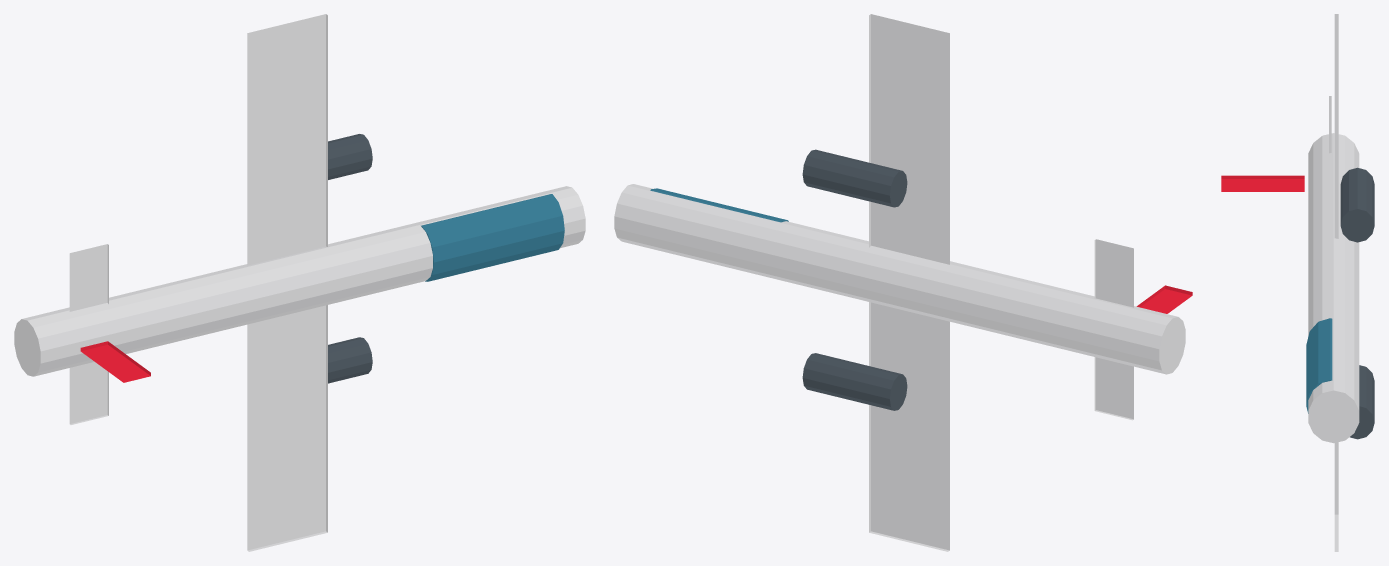
3 views of the same model, side by side, from view 1: azimuth 30°, elevation 25°; view 2: azimuth 150°, elevation 25°; view 3: azimuth 270°, elevation 25° (orthographic). The views are drawn at different scales.
Visible parts, largest first — view 1: Airbus A220-300; view 2: Airbus A220-300; view 3: Airbus A220-300.
Boxes of the visible parts, box(x1,y1,x2,y2) form: Airbus A220-300: box(14, 14, 585, 551); Airbus A220-300: box(614, 14, 1192, 551); Airbus A220-300: box(1221, 14, 1374, 551).
Bounding box in the file's own units: 38.7 × 35.1 × 9.75.
